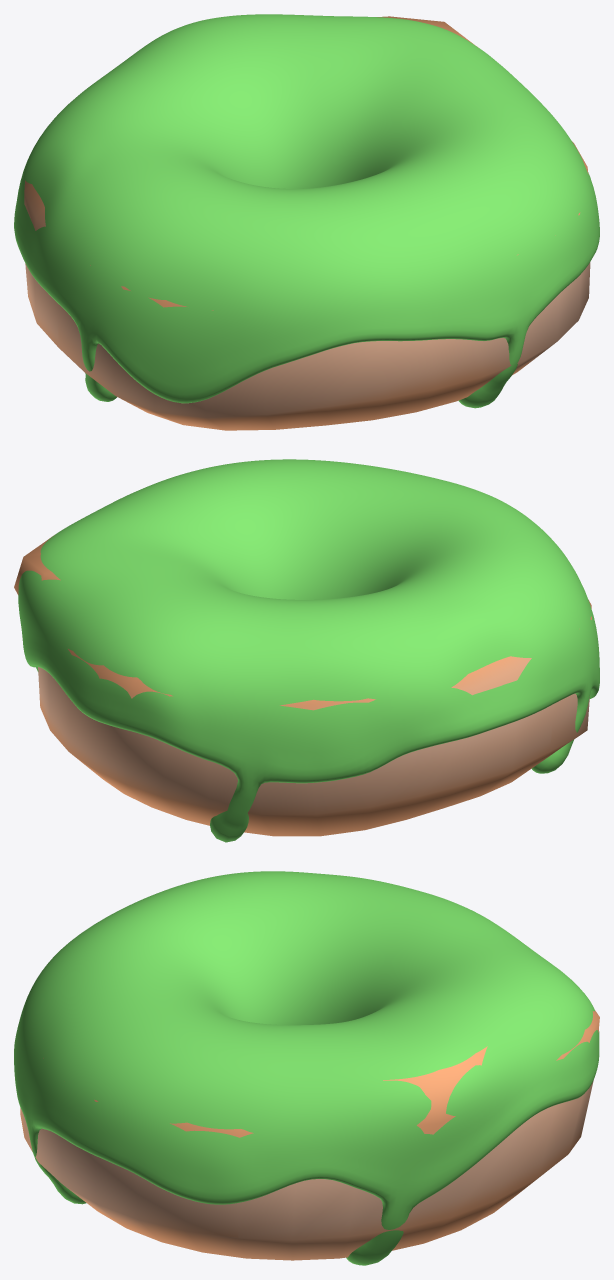
The model's file is donut3.glb.
The picture shows the model from 3 angles, top to bottom: view 1: azimuth 30°, elevation 25°; view 2: azimuth 150°, elevation 25°; view 3: azimuth 270°, elevation 25°; orthographic projection. The views are drawn at different scales.
Parts seen in each view (by area): view 1: Donut.001, Donut; view 2: Donut.001, Donut; view 3: Donut.001, Donut.
Boxes of the visible parts, x1,y1,x2,y2 form: Donut.001: (14, 14, 599, 408); Donut: (24, 16, 590, 430); Donut.001: (18, 459, 599, 842); Donut: (14, 535, 591, 836); Donut.001: (14, 871, 599, 1265); Donut: (20, 1010, 599, 1260).
Size of what is drawn, in the model's own units: 0.1251 by 0.0546 by 0.1275.
Materials: 2 (1 with a texture image).
